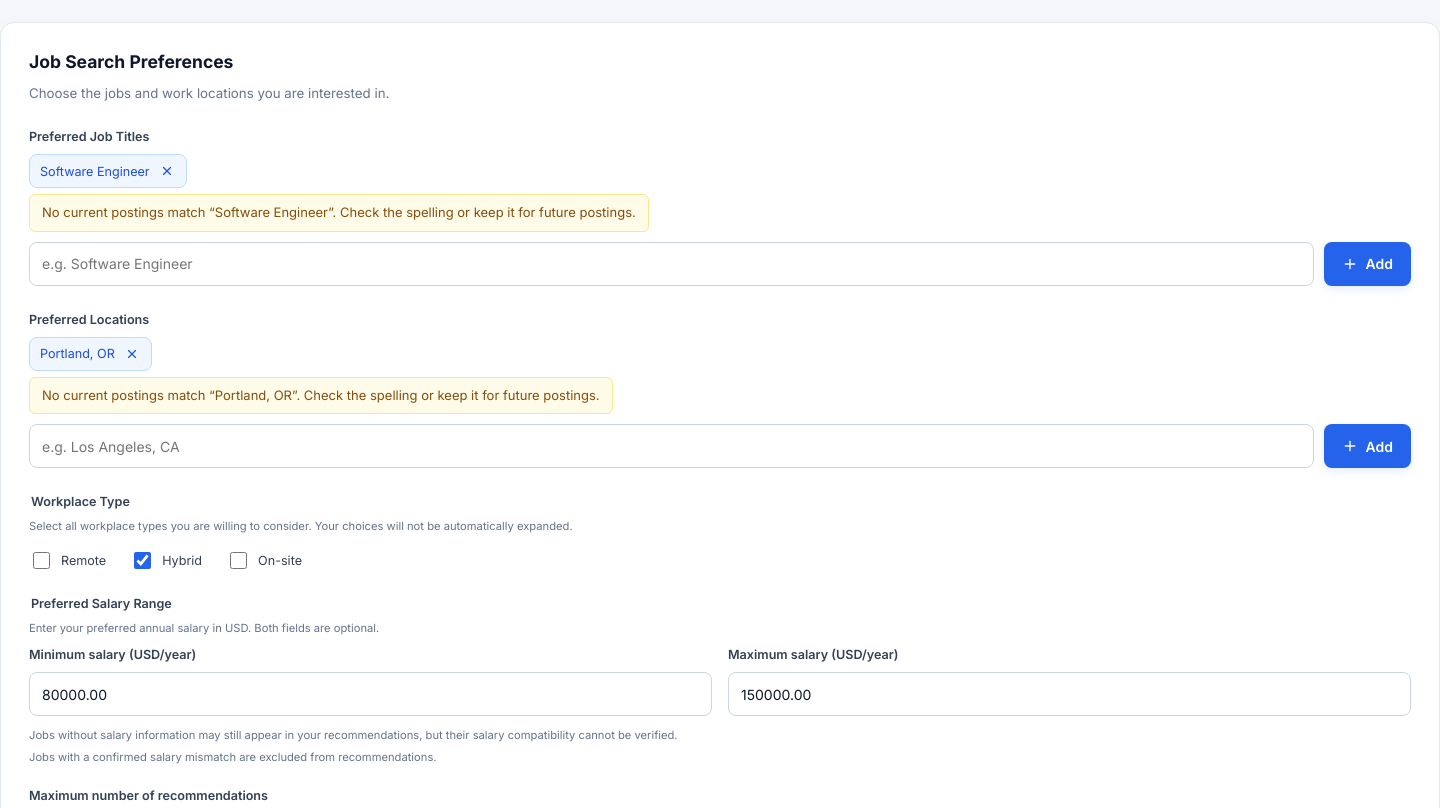
Scenario: SearchPreferencesForm (JH-021) › preserves existing strict preference flags when saving changes
Expected: the text "Software Engineer" is shown, top-left (29, 154), bottom-right (187, 188)
Click the checkbox labelled "Remote".
click(42, 561)  # box top-left (33, 552), bottom-right (50, 569)
(page scrolled)
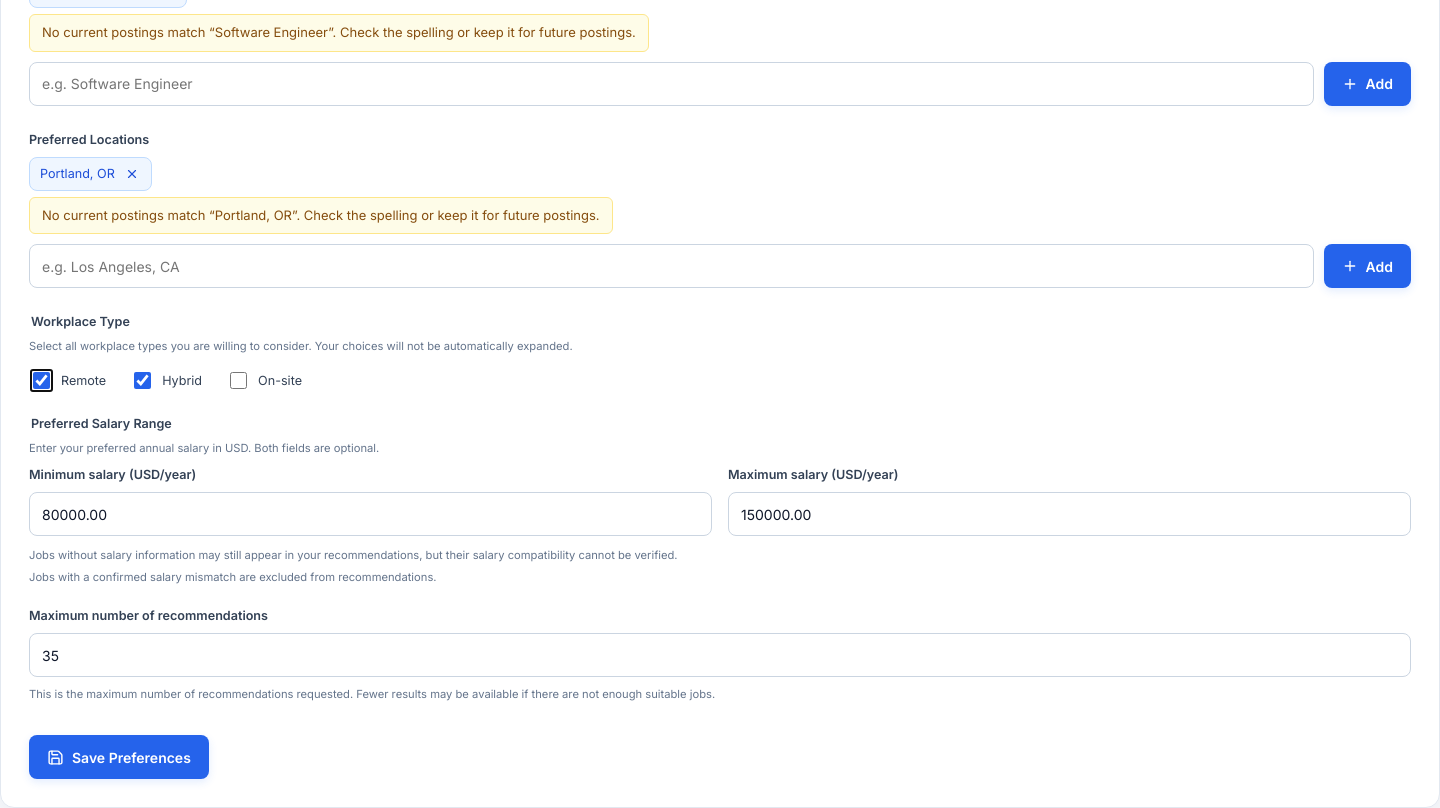
Click the button "Save Preferences".
click(119, 757)  # box top-left (29, 735), bottom-right (209, 779)
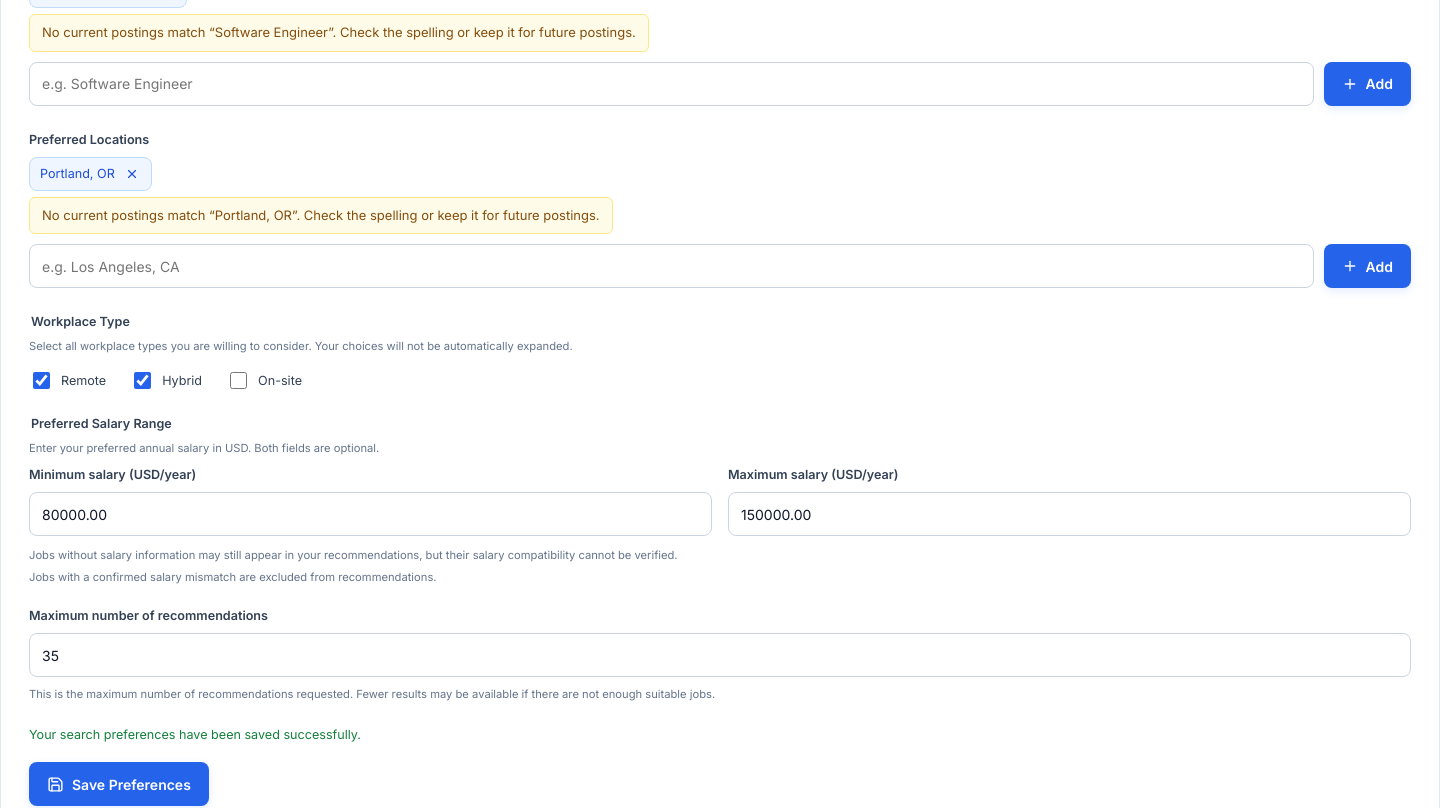
Expected: the text "Your search preferences have been saved successfully." is shown, top-left (29, 727), bottom-right (361, 742)
